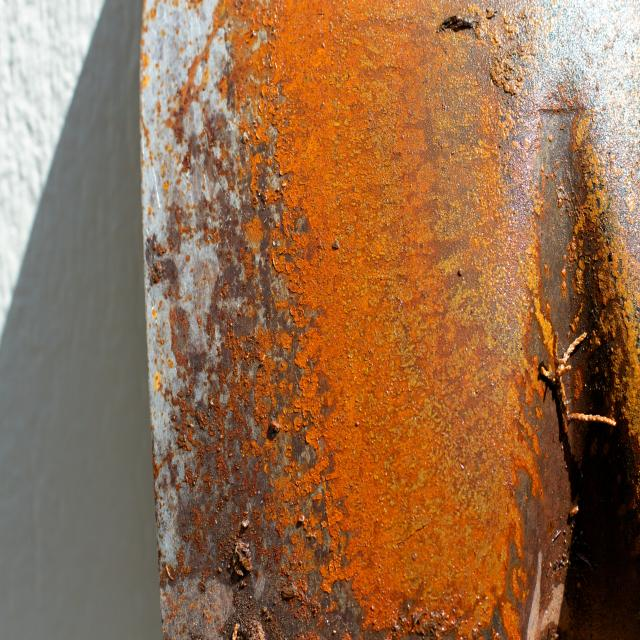corrosion: (231, 0, 640, 640), (150, 8, 241, 638)
